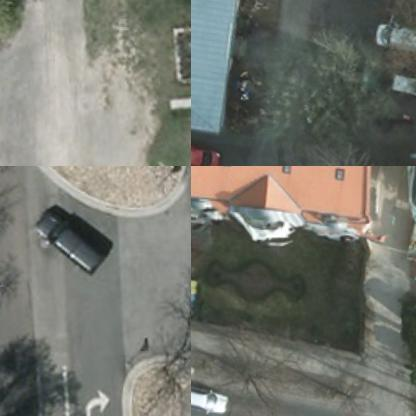car: (29, 207, 110, 277), (191, 383, 225, 415), (191, 135, 219, 165), (337, 0, 397, 10)
van: (371, 18, 415, 57)
